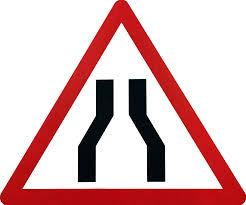narrow_road: (0, 0, 243, 204)
